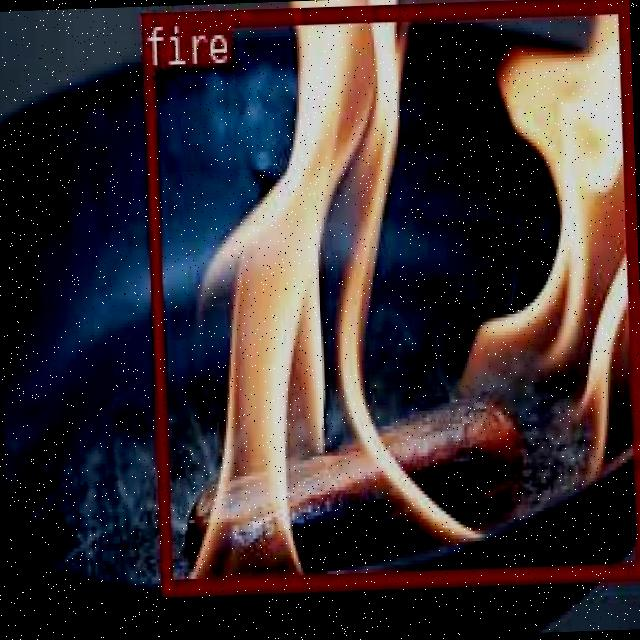fire: (140, 0, 640, 590)
